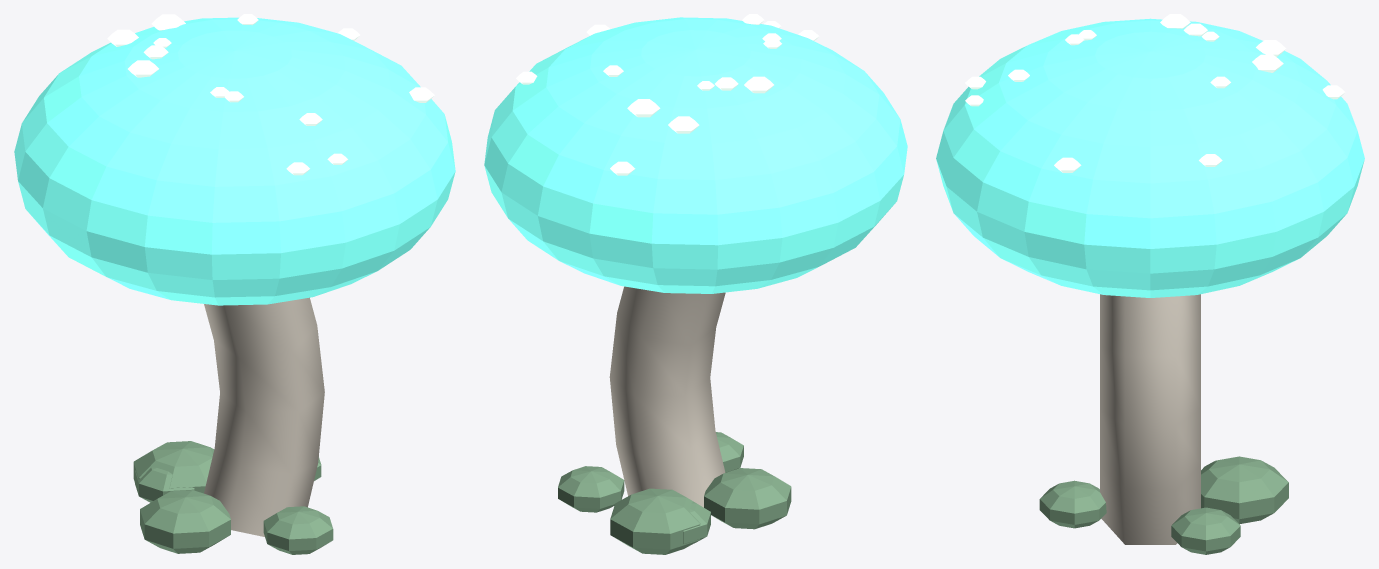
Rendered from mossheart.glb.
3 views of the same model, side by side, from view 1: azimuth 30°, elevation 25°; view 2: azimuth 150°, elevation 25°; view 3: azimuth 270°, elevation 25° (orthographic). The views are drawn at different scales.
Visible parts, largest first — view 1: Sphere.018, MH_stem, Sphere.033, Sphere.036, Sphere.037, Sphere.035; view 2: Sphere.018, MH_stem, Sphere.037, Sphere.033, Sphere.034, Sphere.036, Sphere.035; view 3: Sphere.018, MH_stem, Sphere.037, Sphere.034, Sphere.036.
Boxes of the visible parts, box(x1,y1,x2,y2) form: Sphere.018: box(14, 17, 455, 305); MH_stem: box(204, 297, 324, 536); Sphere.033: box(140, 490, 230, 553); Sphere.036: box(263, 506, 333, 554); Sphere.037: box(133, 441, 214, 493); Sphere.035: box(135, 467, 194, 502); Sphere.018: box(484, 17, 907, 293); MH_stem: box(609, 286, 725, 507); Sphere.037: box(610, 488, 700, 554); Sphere.033: box(704, 468, 791, 529); Sphere.034: box(558, 466, 624, 512); Sphere.036: box(716, 432, 743, 472); Sphere.035: box(683, 501, 710, 543); Sphere.018: box(936, 18, 1364, 297); MH_stem: box(1100, 294, 1200, 544); Sphere.037: box(1201, 456, 1288, 524); Sphere.034: box(1171, 507, 1240, 554); Sphere.036: box(1039, 480, 1106, 528).
Size of the model in its own units: 0.72 by 0.8668 by 0.72.
